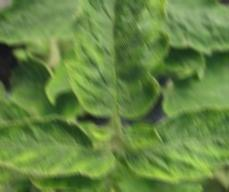Tomato leaf yellow virus: (66, 0, 164, 124), (126, 105, 229, 191), (0, 117, 117, 188), (132, 0, 229, 54), (0, 0, 85, 59)
